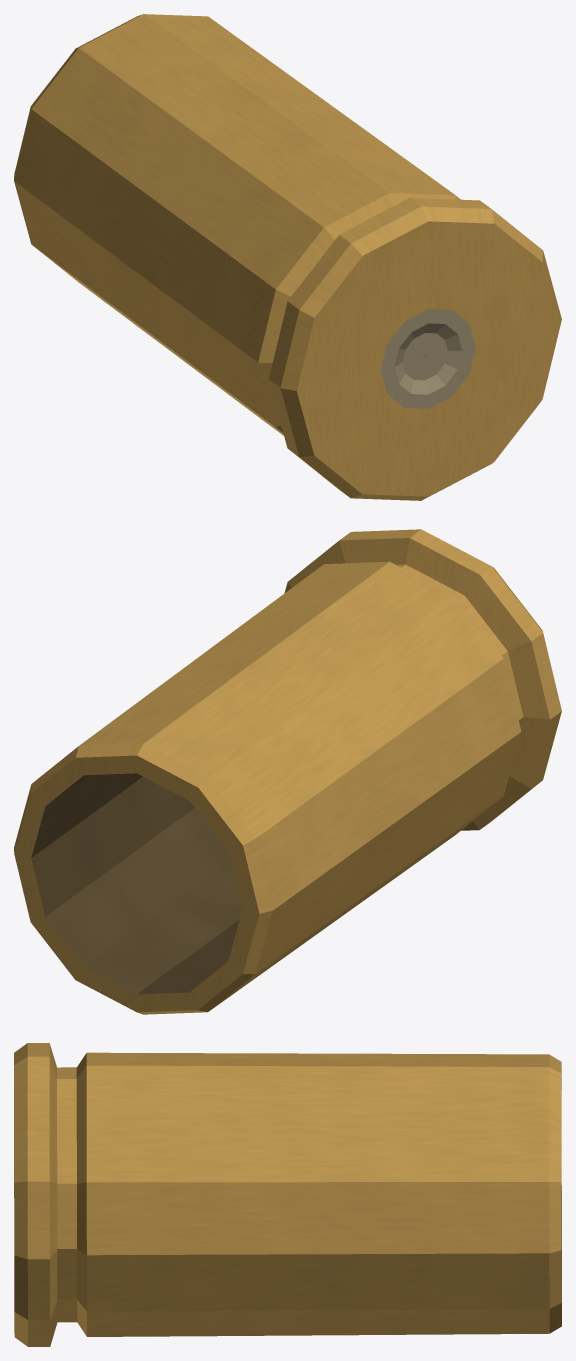
The model's file is 12_pistol_casing.glb.
3 renders of one model, top to bottom at view 1: azimuth 30°, elevation 25°; view 2: azimuth 150°, elevation 25°; view 3: azimuth 270°, elevation 25°, orthographic. The views are drawn at different scales.
Parts seen in each view (by area): view 1: pistol_casing; view 2: pistol_casing; view 3: pistol_casing.
Boxes of the visible parts, <box> form: pistol_casing: <box>14,14,561,500</box>; pistol_casing: <box>14,529,561,1014</box>; pistol_casing: <box>14,1043,561,1346</box>.
Size of the model in its own units: 0.0124 by 0.0124 by 0.0223.
Materials: 3 (3 with a texture image).
